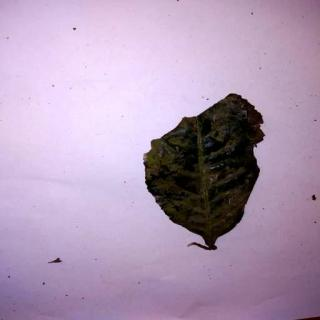Anthracnose: (140, 93, 268, 248)
